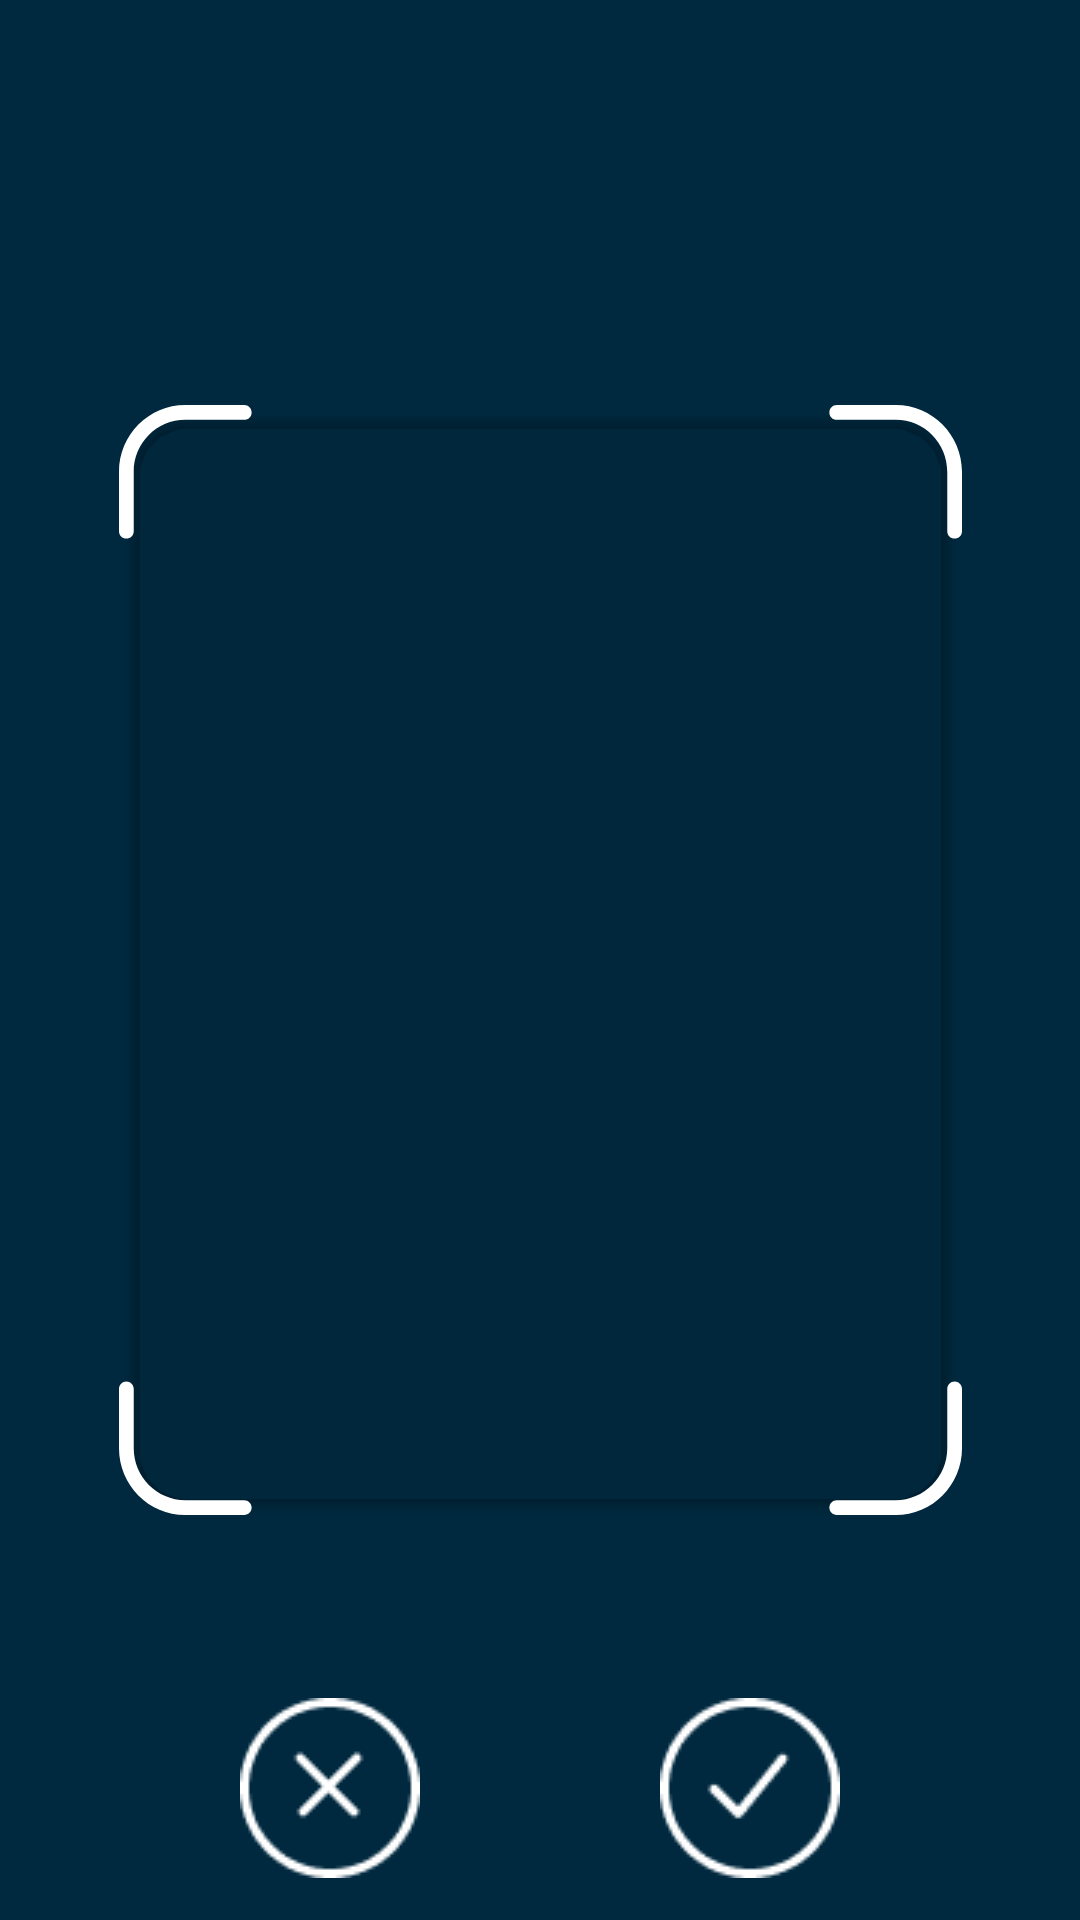

Named icons in this screenshot (1080×1920) and their bounding boxes, (x1, y1, x2, y2):
Accept: (660, 1698, 840, 1878)
Cancel: (240, 1698, 420, 1878)
